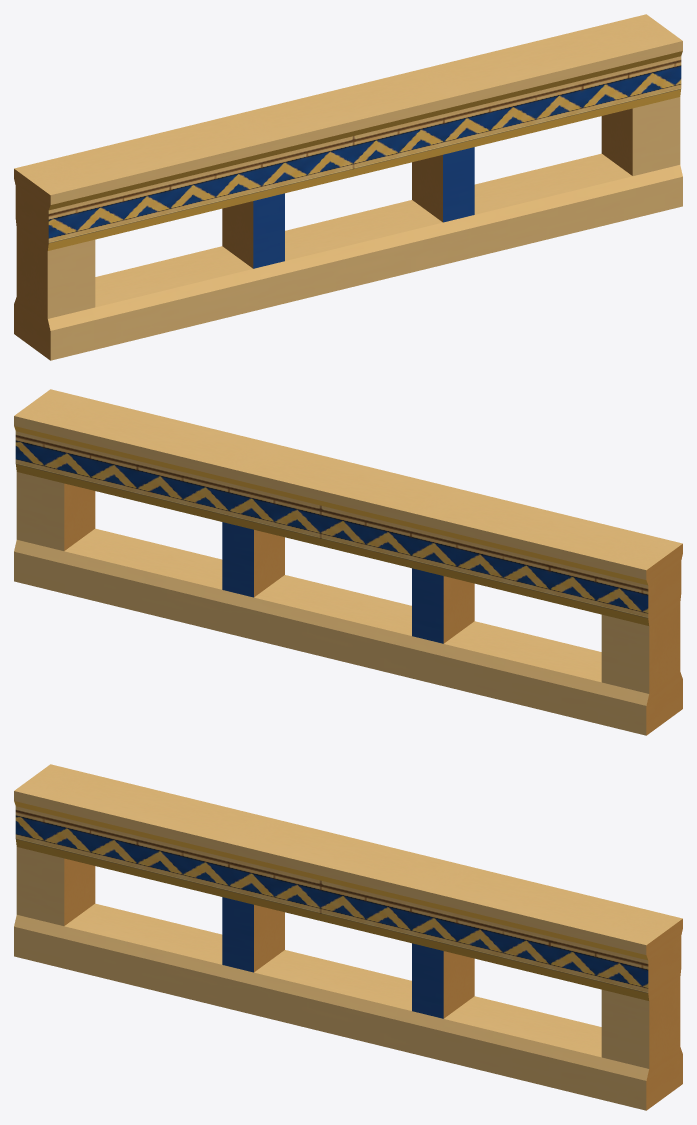
The model's file is rc_parapet.glb.
3 renders of one model, top to bottom at view 1: azimuth 30°, elevation 25°; view 2: azimuth 150°, elevation 25°; view 3: azimuth 330°, elevation 25°, orthographic.
Parts seen in each view (by area): view 1: SM_RC_Parapet_4x1; view 2: SM_RC_Parapet_4x1; view 3: SM_RC_Parapet_4x1.
Boxes of the visible parts, left/top/right/bottom form: SM_RC_Parapet_4x1: left=14, top=14, right=682, bottom=360; SM_RC_Parapet_4x1: left=14, top=389, right=682, bottom=735; SM_RC_Parapet_4x1: left=14, top=764, right=682, bottom=1110.
Size of the model in its own units: 4 by 1 by 0.4.
Materials: 1 (1 with a texture image).
